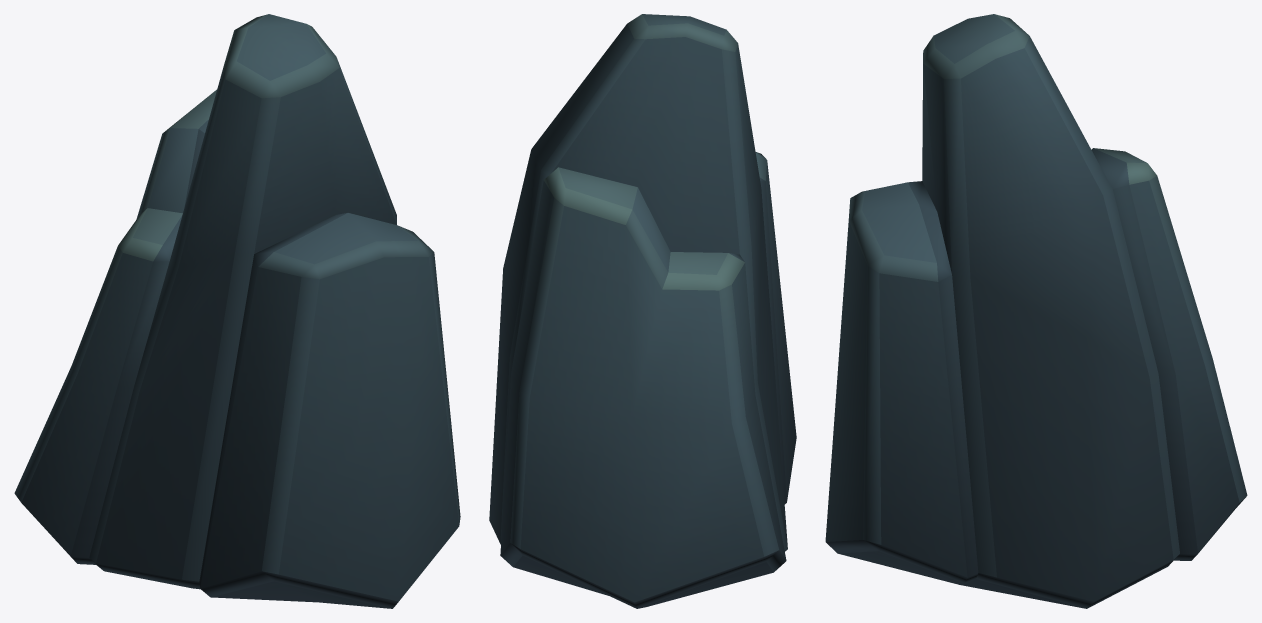
File: rock_12.fbx
The picture shows the model from 3 angles, left to right: view 1: azimuth 30°, elevation 25°; view 2: azimuth 150°, elevation 25°; view 3: azimuth 270°, elevation 25°; orthographic projection. The views are drawn at different scales.
Visible parts, largest first — view 1: rock_12; view 2: rock_12; view 3: rock_12.
Part boxes in pixels (box(x1,y1,x2,y2)): rock_12: box(14, 14, 460, 608); rock_12: box(489, 14, 796, 608); rock_12: box(825, 14, 1247, 608).
Size of the model in its own units: 171 by 289 by 202.
